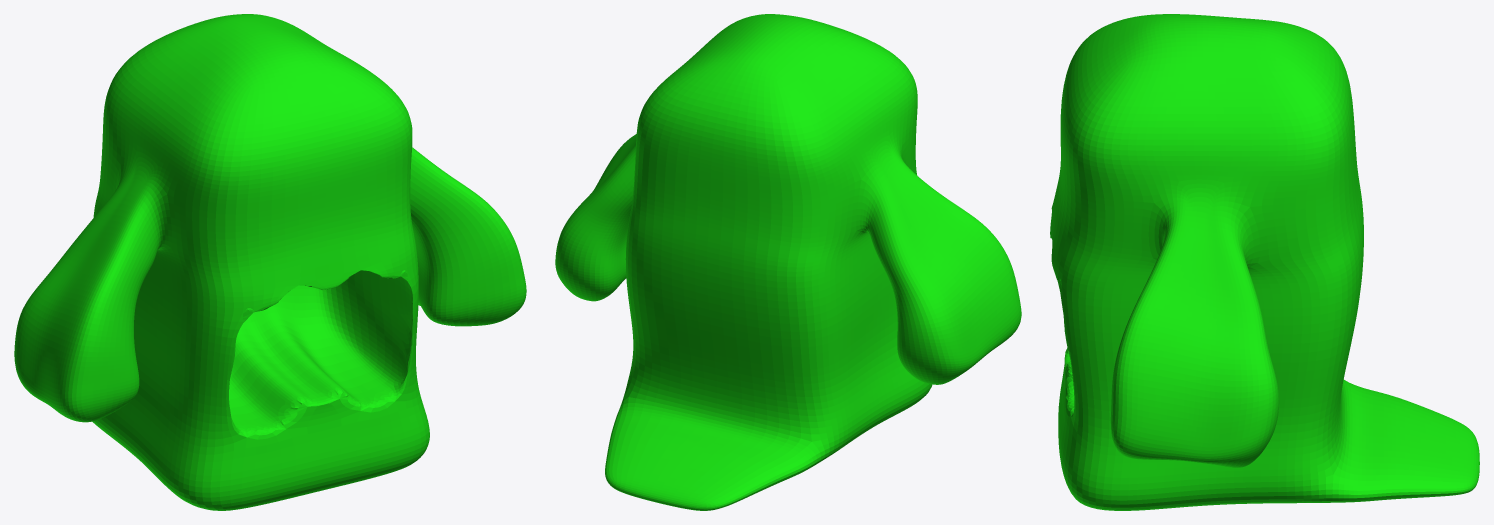
Rendered from Ground_Monster_v0.fbx.
The picture shows the model from 3 angles, left to right: view 1: azimuth 30°, elevation 25°; view 2: azimuth 150°, elevation 25°; view 3: azimuth 270°, elevation 25°; orthographic projection. The views are drawn at different scales.
Parts seen in each view (by area): view 1: Ground_Monster; view 2: Ground_Monster; view 3: Ground_Monster.
Part boxes in pixels (x1,y1,x2,y2): Ground_Monster: (14,14,526,510); Ground_Monster: (555,14,1021,510); Ground_Monster: (1050,14,1479,510).
Bounding box in the file's own units: 397 × 348 × 305.
